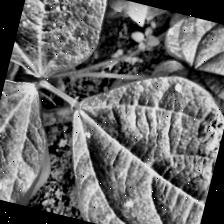Bean Rust: (47, 55, 224, 224), (0, 67, 62, 207), (8, 0, 104, 86)
